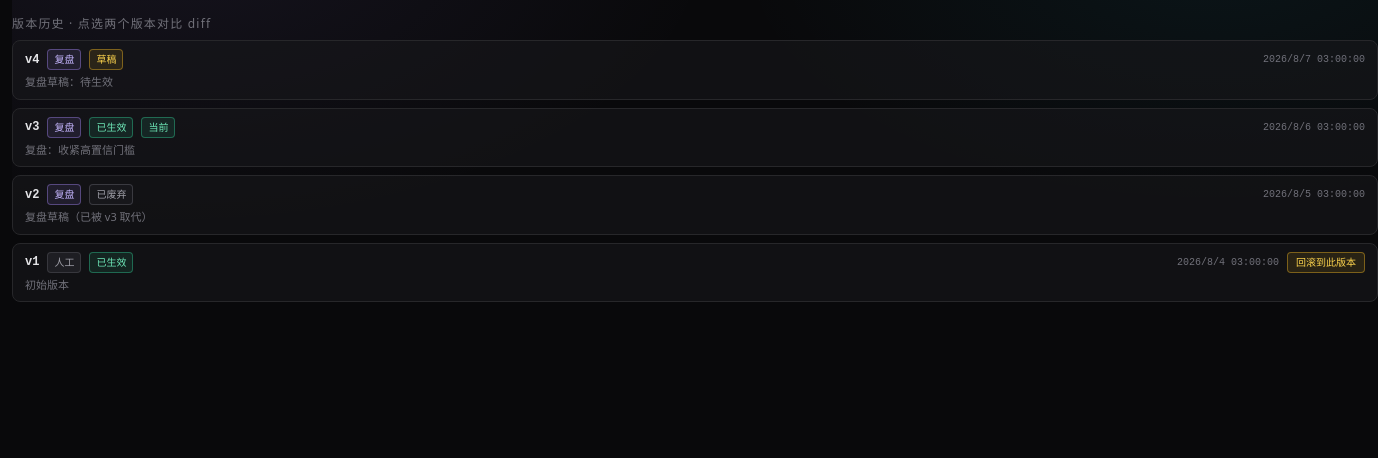
ResearchPromptVersions(研报提示词版本历史) › 点选两版本：拉取 diff（旧 → 新），+ 绿 / - 红着色
The width and height of the screenshot is (1378, 458).
Expected: the text "v4" is shown, [25,52,39,68]
Click the text "v2": (32, 194) [25,186,39,202]
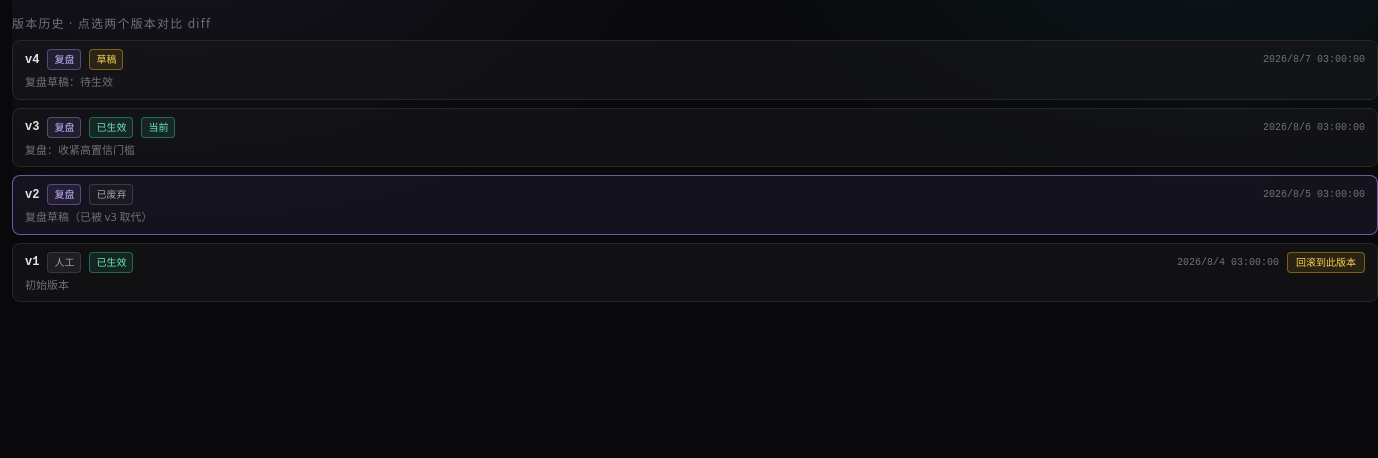
Click the text "v1": (32, 262) [25,254,39,270]
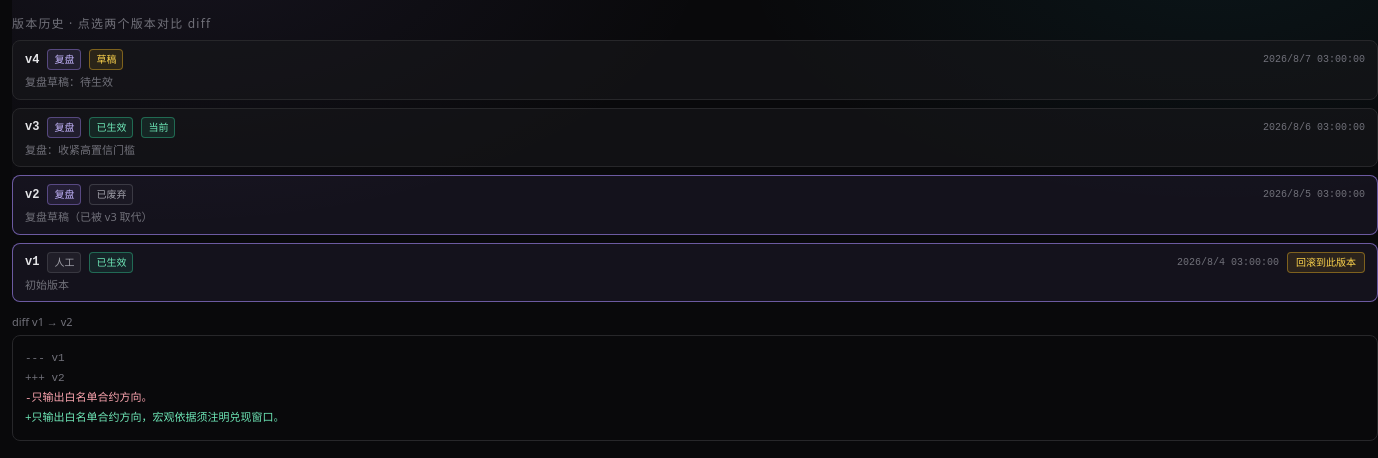
Result: the text "diff v1 → v2" is shown at [12,314,72,329]
